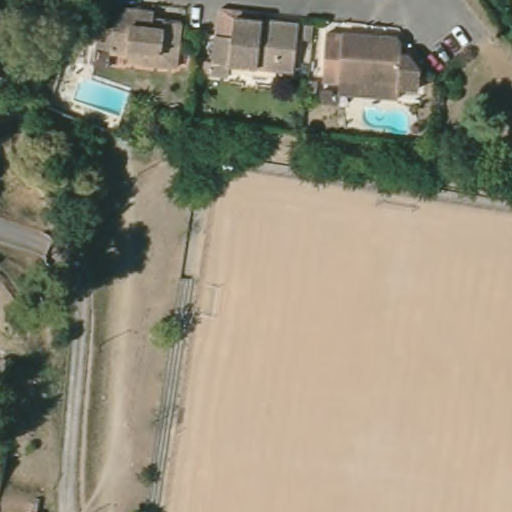pool: (69, 72, 136, 119), (356, 98, 422, 138)
